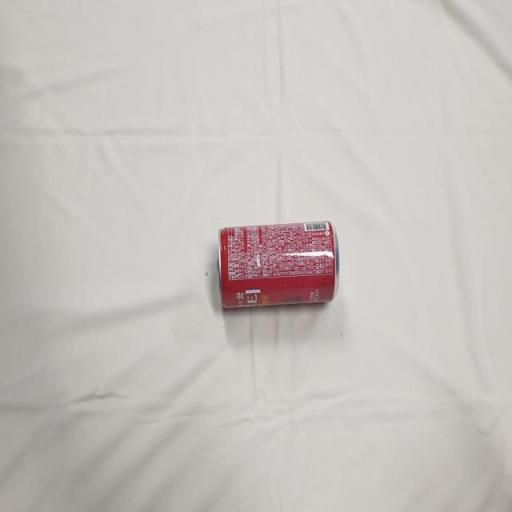metal: (196, 180, 356, 352)
